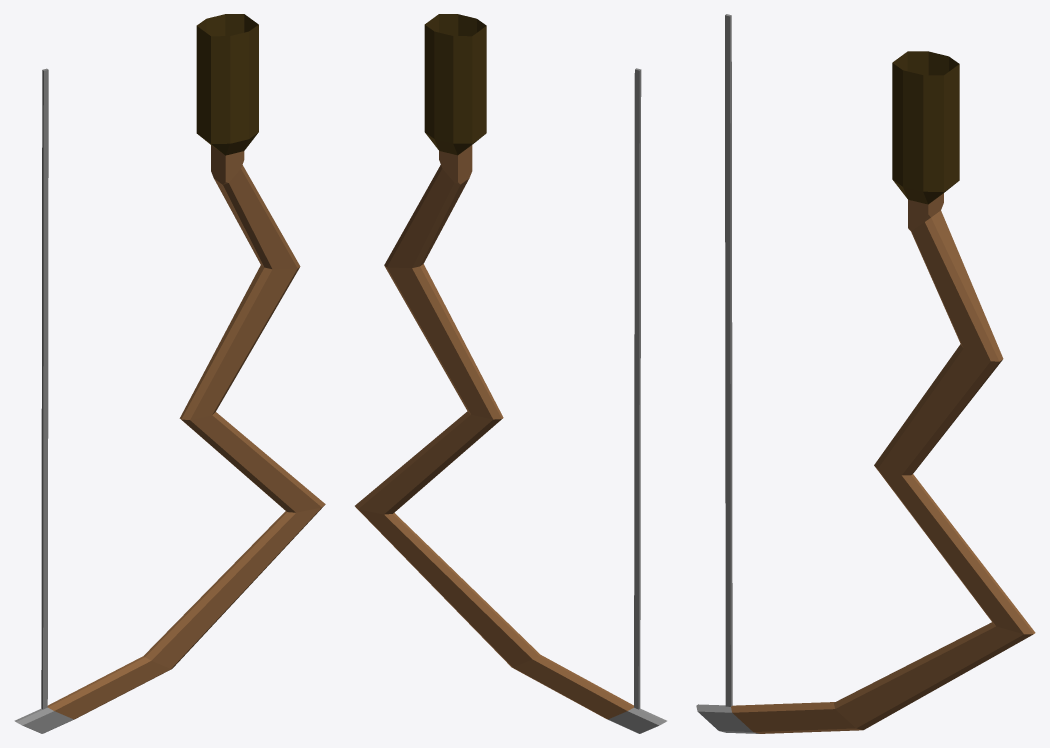
File: Bow.dae
3 views of the same model, side by side, from view 1: azimuth 30°, elevation 25°; view 2: azimuth 150°, elevation 25°; view 3: azimuth 330°, elevation 25° (orthographic). The views are drawn at different scales.
Parts seen in each view (by area): view 1: Cube; view 2: Cube; view 3: Cube.
Boxes of the visible parts, left/top/right/bottom form: Cube: left=14, top=14, right=325, bottom=733; Cube: left=355, top=14, right=666, bottom=733; Cube: left=696, top=14, right=1035, bottom=733.
Size of the model in its own units: 0.7768 by 0.1028 by 1.58.
